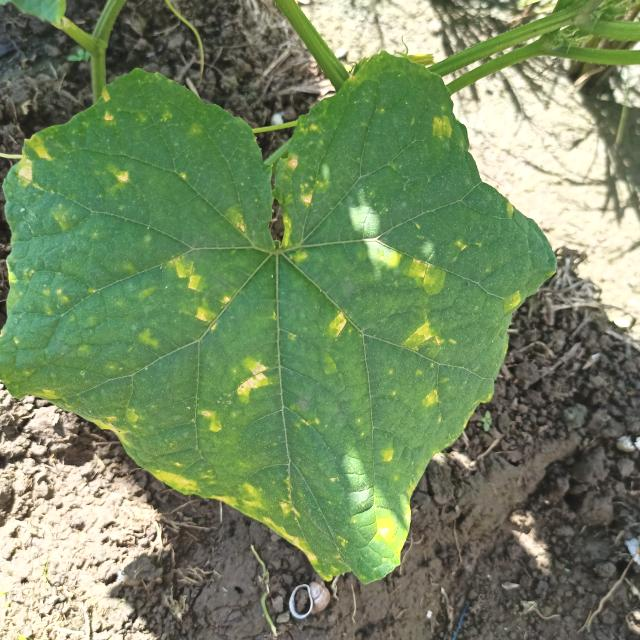disease_cucumber: (8, 70, 537, 580)
